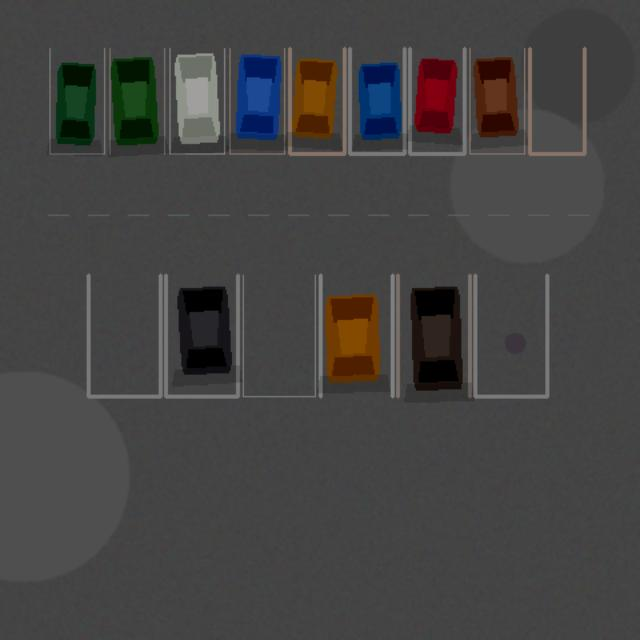space-empty: (88, 275, 160, 396), (243, 275, 315, 396), (475, 275, 547, 396), (529, 48, 584, 153)
space-occupied: (165, 275, 237, 396), (320, 275, 392, 396), (397, 275, 469, 396), (49, 48, 104, 153), (109, 48, 164, 153), (169, 48, 224, 153), (229, 48, 284, 153), (289, 48, 344, 153), (349, 48, 404, 153), (409, 48, 464, 153), (469, 48, 524, 153)
